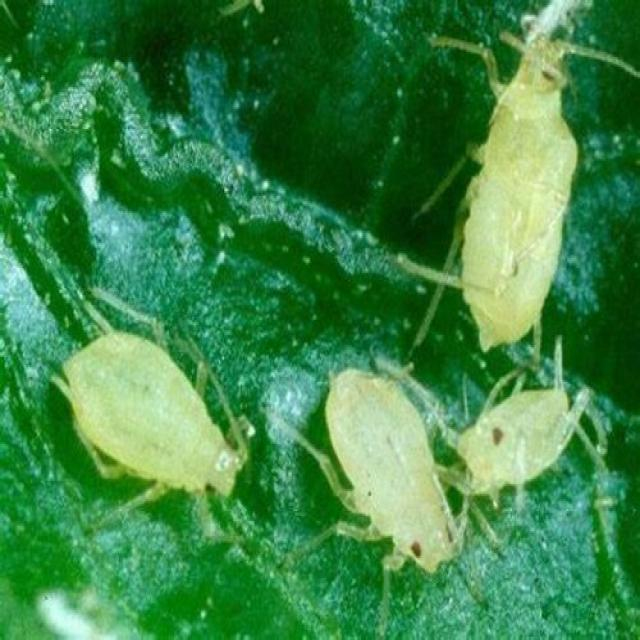aphid: (440, 4, 612, 353), (43, 280, 264, 524), (303, 340, 457, 597), (457, 346, 596, 520)
